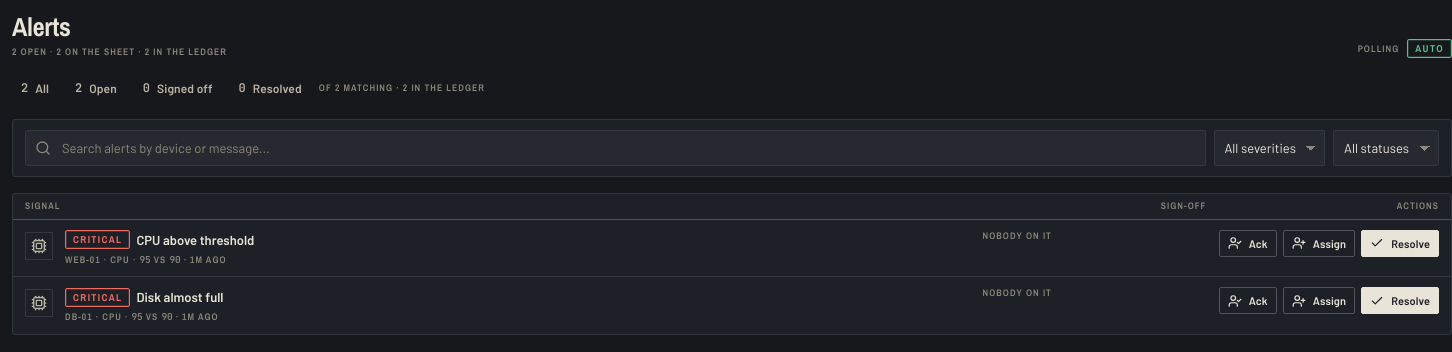
Test case: Alerts page › the chips count what the filters leave on screen
Check: the text "CPU above threshold" is shown, box [136,230,254,250]
Type "db-01" into the field with placeholder "Search alerts by device or message..." at (615, 148), box [25,130,1206,166]
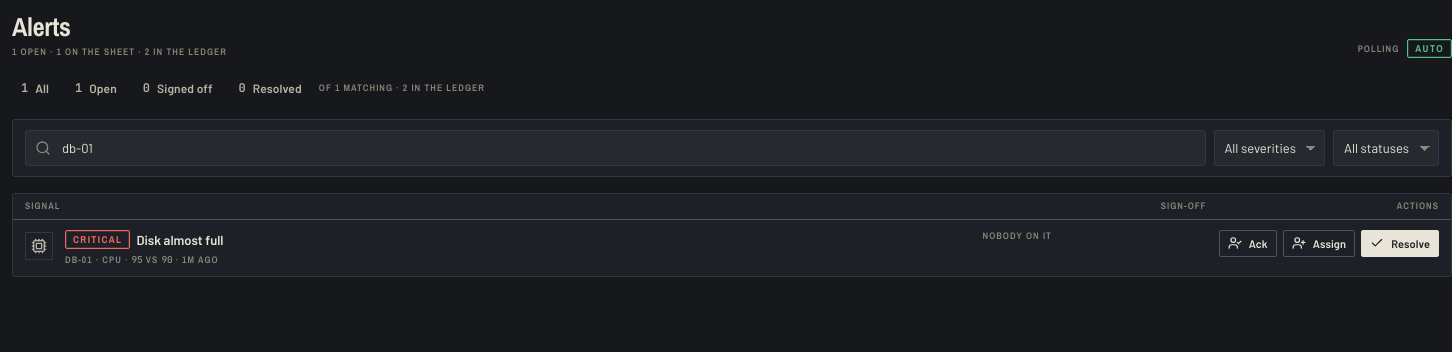
Check: the button "1 All" is shown, box [12,74,58,103]
Check: the button "1 Open" is shown, box [66,74,126,103]
Check: the text "of 1 matching · 2 in the ledger" is shown, box [319,82,485,95]
